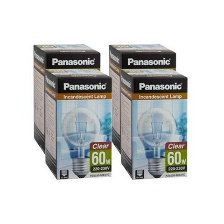carton: (115, 64, 190, 184), (28, 40, 102, 161), (106, 44, 180, 161), (40, 65, 113, 181)
